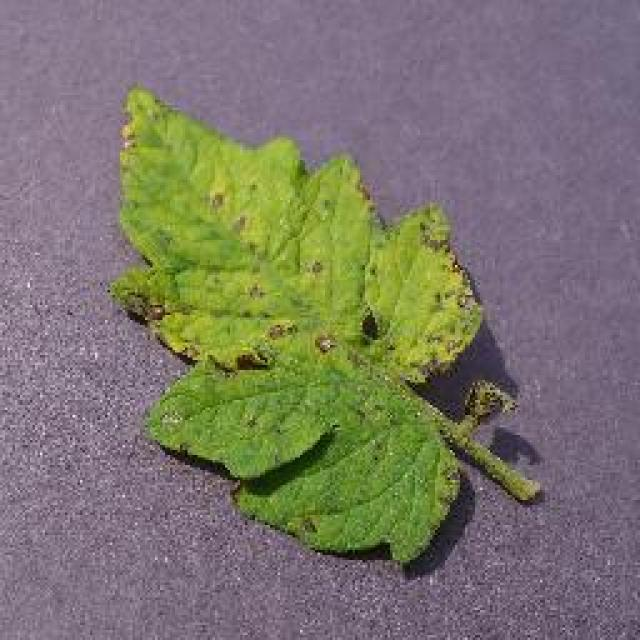Tomato target spot leaf: (112, 85, 482, 565)
